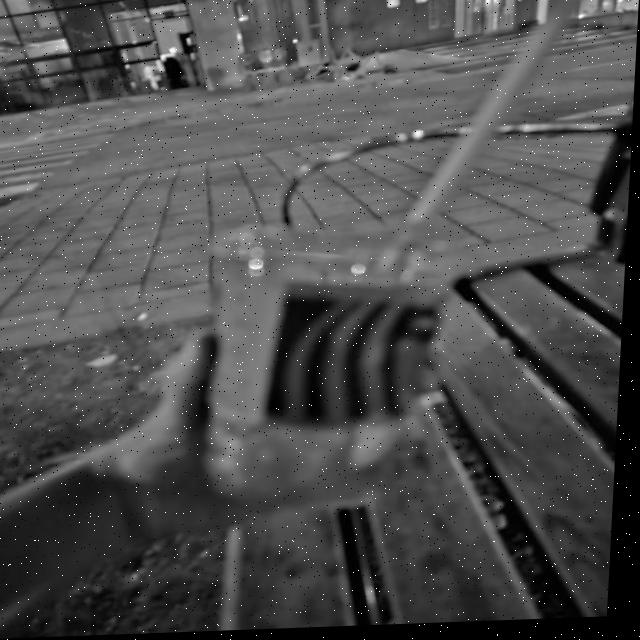cup: (182, 204, 483, 524)
